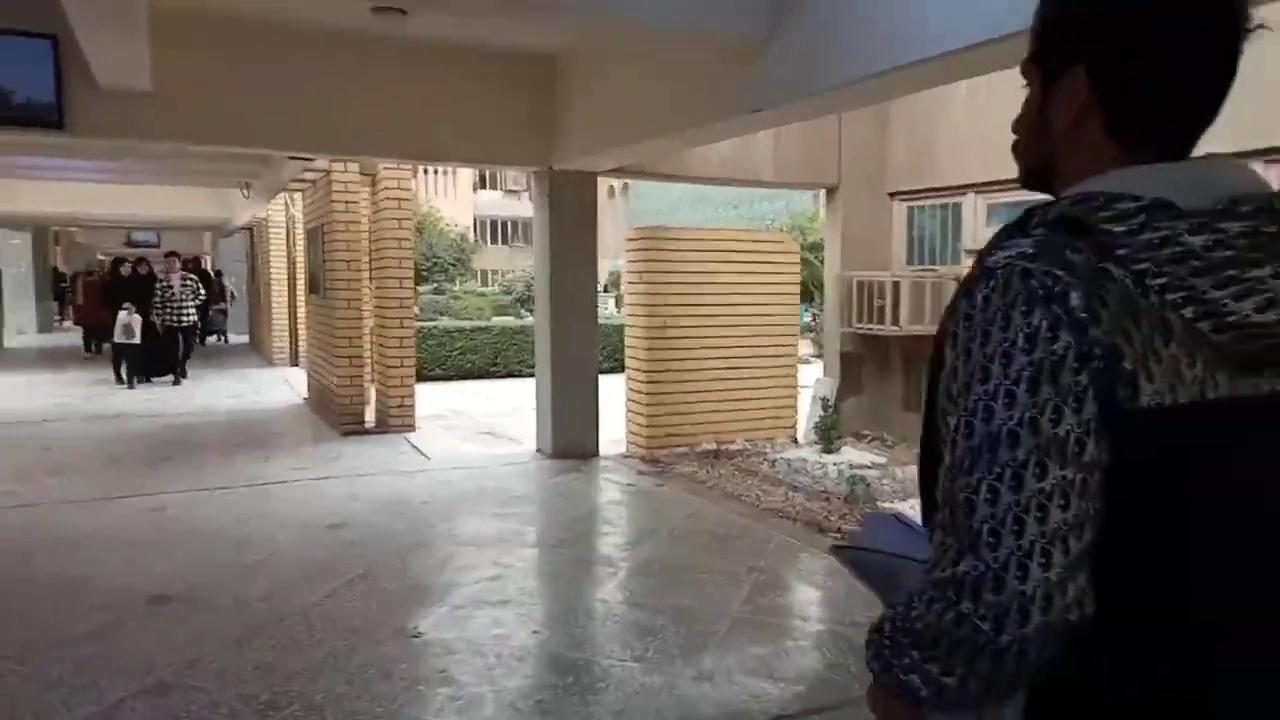person: (859, 0, 1279, 718), (100, 254, 160, 391), (159, 241, 203, 391)
tree: (413, 203, 476, 293), (799, 201, 824, 358), (810, 393, 843, 454), (498, 266, 534, 317), (597, 321, 624, 373), (602, 267, 621, 293)
